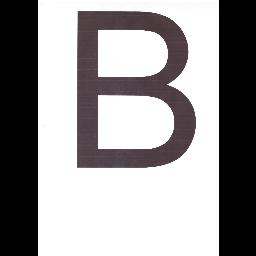b: (66, 2, 206, 186)
